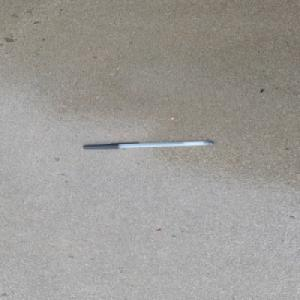Pen: (82, 139, 214, 149)
